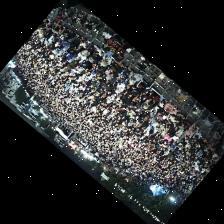person: (136, 75, 157, 91), (76, 43, 93, 59), (189, 128, 204, 144), (78, 56, 93, 70), (144, 90, 159, 103), (58, 36, 75, 47), (110, 60, 124, 73), (129, 70, 142, 83), (95, 60, 109, 72), (115, 79, 127, 92), (136, 91, 149, 103), (93, 46, 104, 60), (164, 102, 176, 114), (60, 50, 75, 59), (100, 53, 111, 65), (128, 87, 139, 99), (175, 111, 185, 124), (64, 28, 75, 39), (173, 126, 183, 138), (122, 66, 130, 80), (116, 69, 124, 83), (204, 142, 213, 154), (79, 37, 88, 49), (106, 69, 118, 78), (126, 79, 135, 90), (164, 119, 173, 130), (185, 127, 192, 141), (199, 136, 207, 148), (167, 113, 175, 125), (122, 96, 131, 106), (157, 111, 166, 121), (45, 34, 54, 44), (105, 76, 116, 84), (143, 109, 151, 120), (148, 114, 156, 125), (60, 43, 69, 52), (51, 23, 61, 31), (190, 123, 198, 133), (158, 124, 165, 134), (159, 96, 166, 106), (163, 133, 170, 143), (107, 93, 115, 101), (172, 121, 179, 130), (150, 106, 157, 115), (122, 41, 131, 48), (47, 19, 56, 26), (143, 99, 149, 108)
